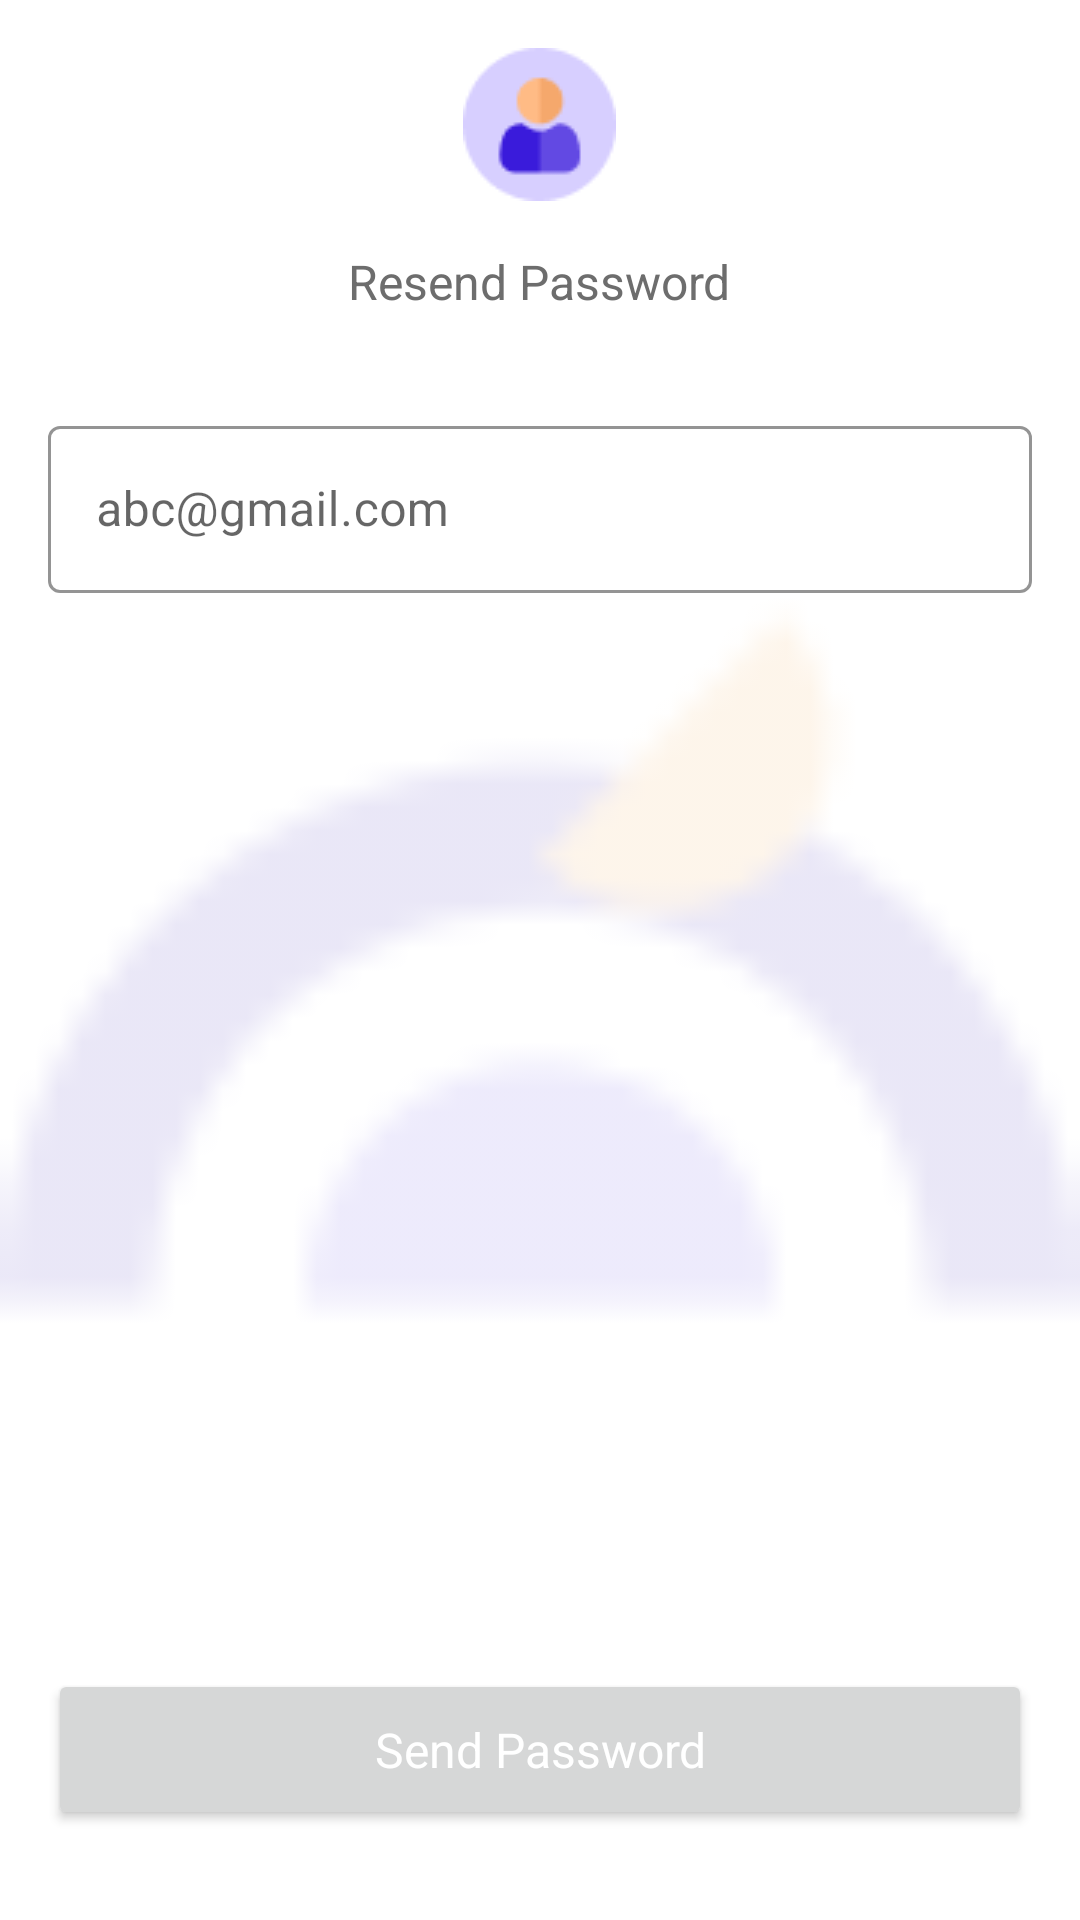

Screen size 1080 × 1920. Icon name, then its box in pixels as BBox(x1, y1, x2, y2):
person: BBox(463, 48, 616, 201)
